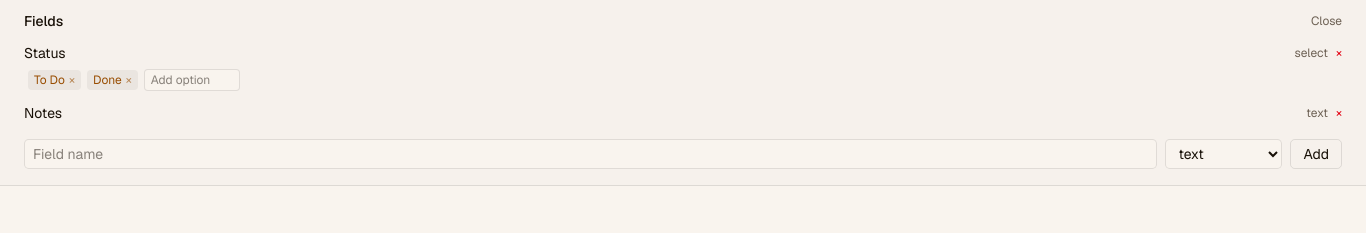
SchemaEditor › resets pending options after the field is created
Select "select" in the dropdown named "Field type" at (1224, 154), box [1165,139,1282,169]
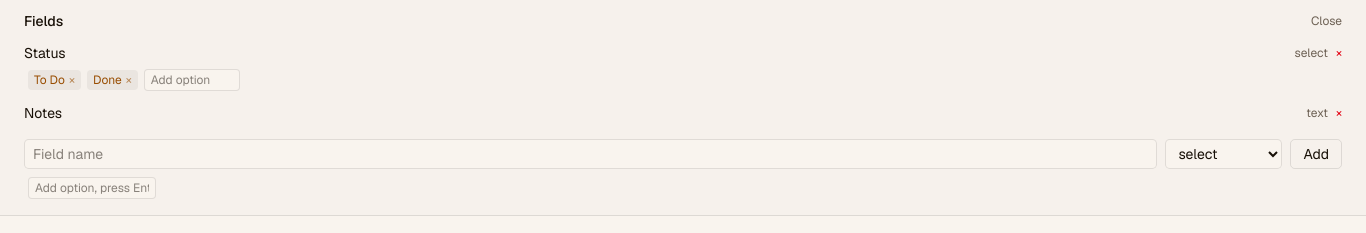
Type "Low" into the field named "New field option".
click(92, 188); type("Low")  # box [28,177,156,199]
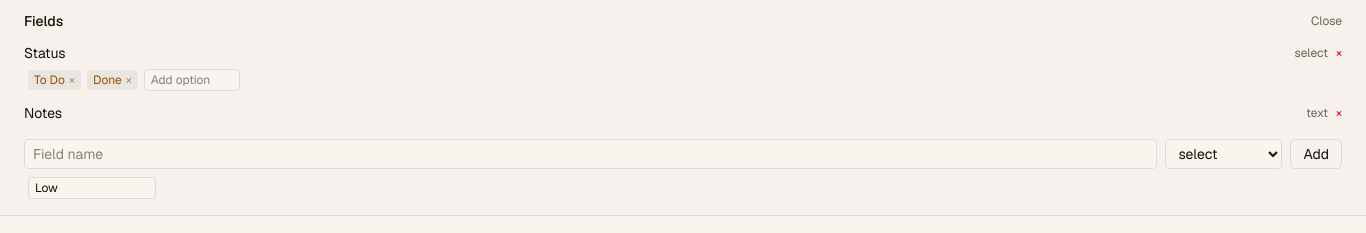
Press Enter in the field named "New field option", box [28,177,156,199]
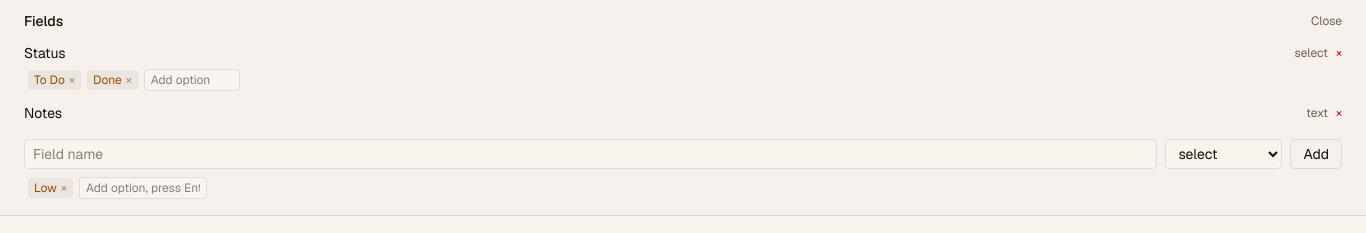
Type "Priority" into the field named "New field name".
click(591, 154); type("Priority")  # box [24,139,1157,169]
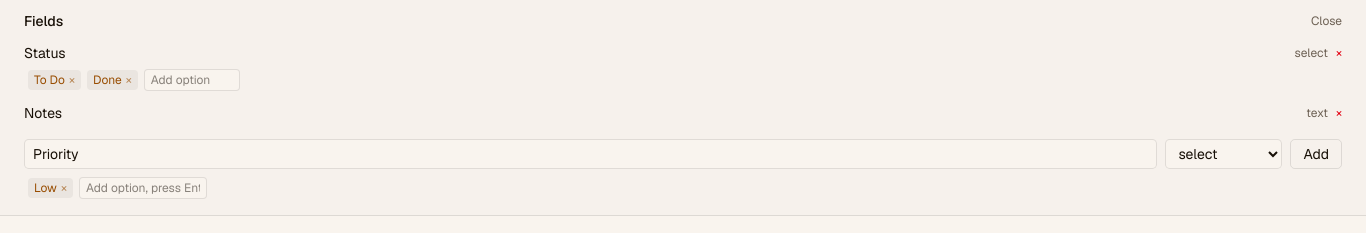
Click the button "Add".
click(1316, 154)  # box [1290,139,1342,169]
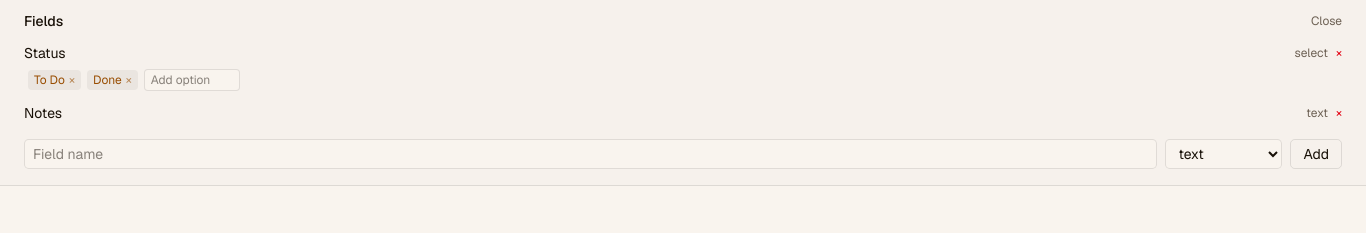
Result: the text "Low" is gone
